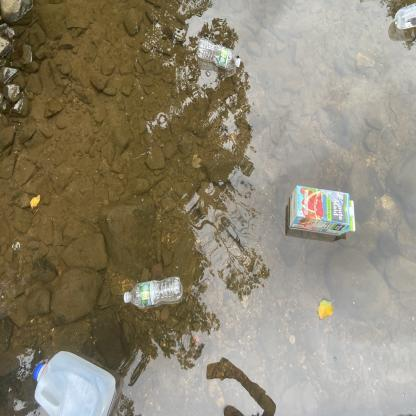trash: (23, 348, 122, 416), (278, 181, 360, 240), (115, 270, 186, 313), (188, 34, 244, 73), (388, 0, 416, 35)
